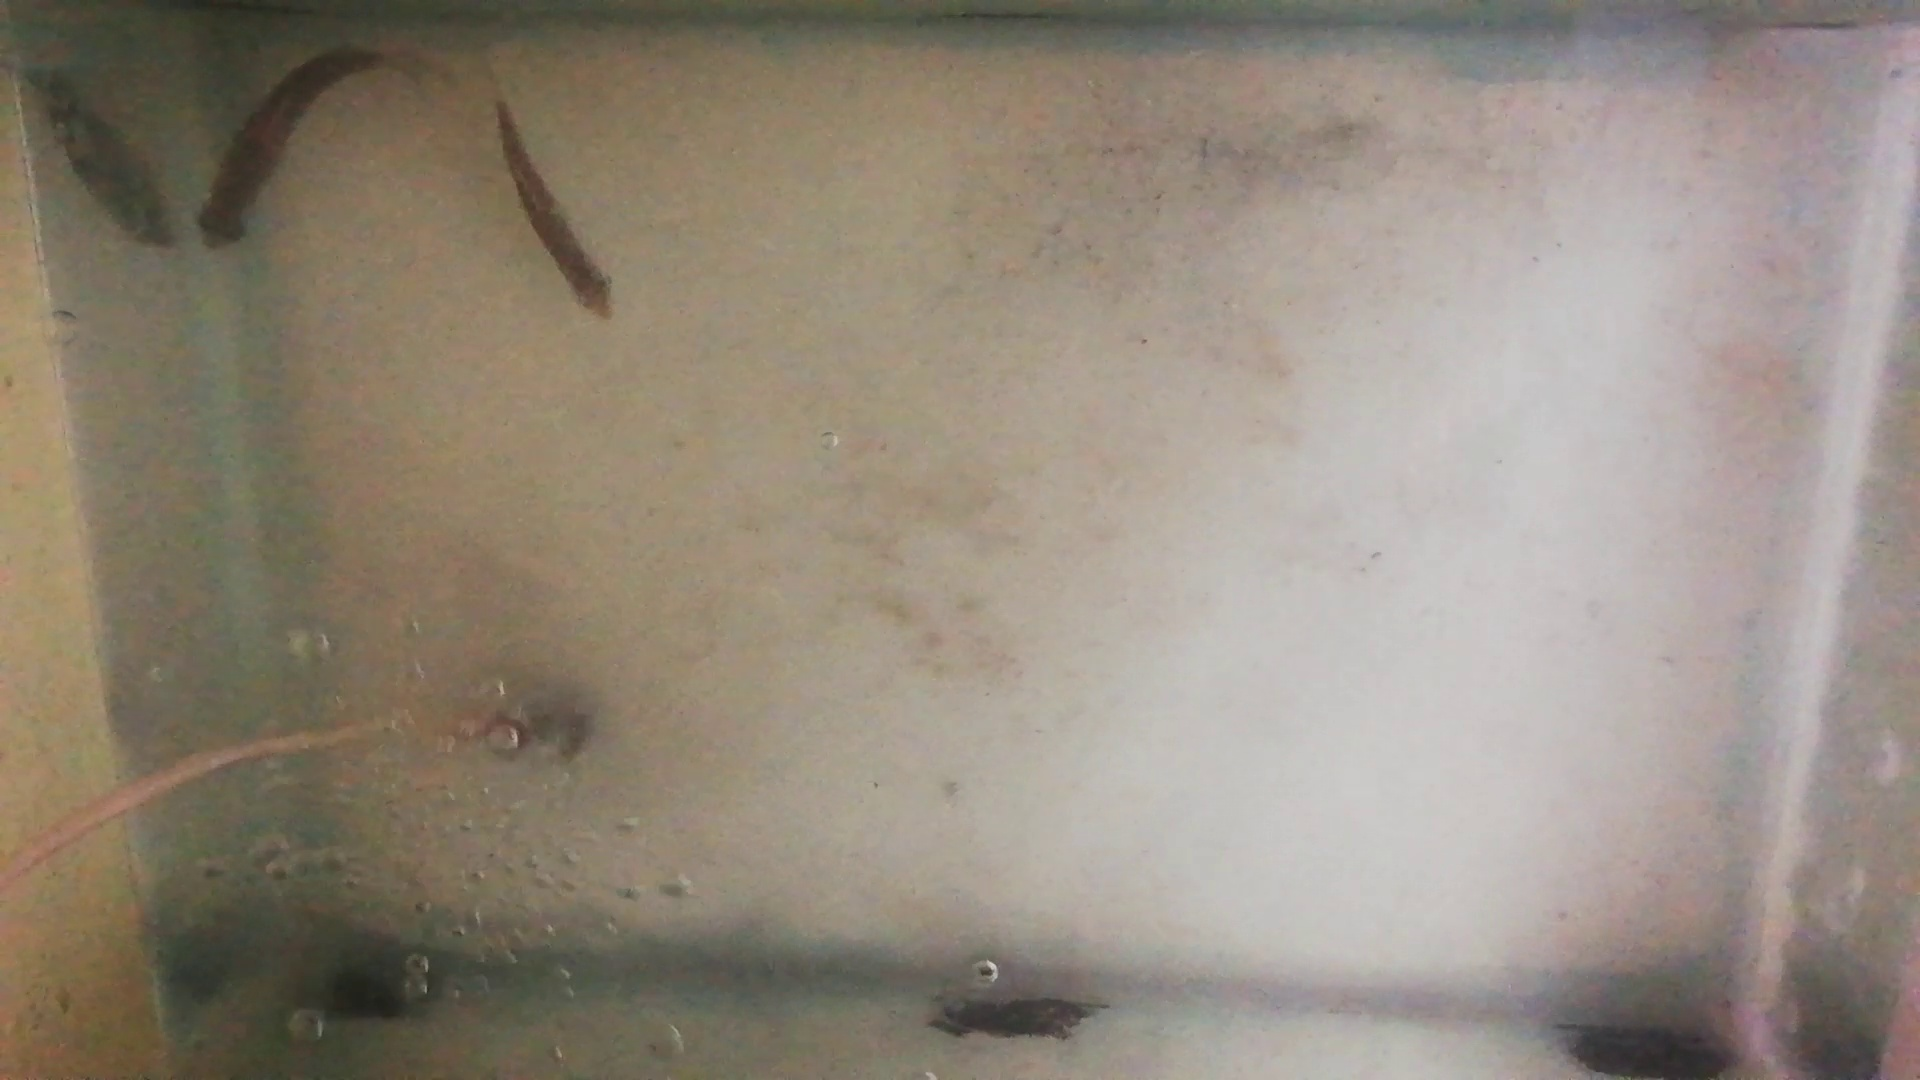fish: (195, 47, 382, 247), (491, 94, 617, 320)
